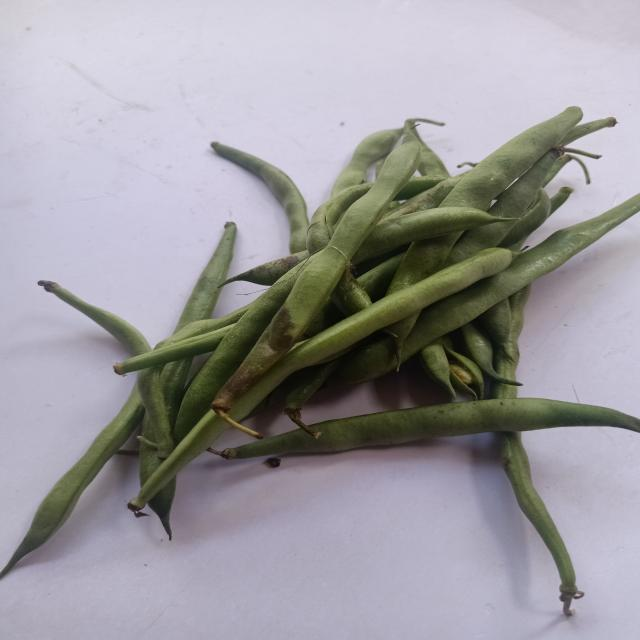Beans: (212, 138, 421, 413), (227, 248, 512, 421), (402, 194, 640, 361), (219, 398, 640, 460), (500, 432, 579, 603), (211, 141, 309, 254), (128, 410, 227, 511), (351, 207, 516, 265), (333, 337, 396, 384), (495, 349, 517, 379), (514, 297, 526, 337), (490, 383, 518, 399)
